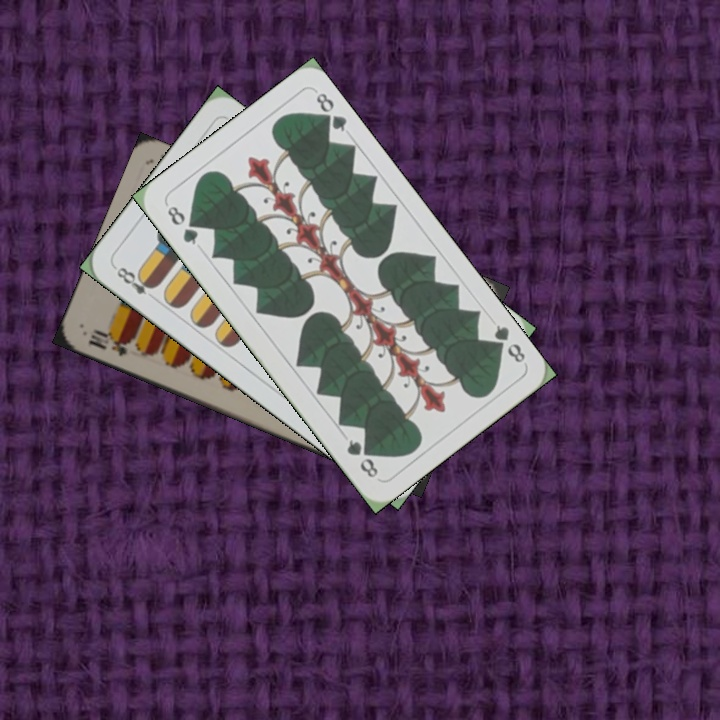E10: (84, 325, 134, 359)
E8: (110, 262, 159, 298)
G8: (486, 320, 528, 366), (163, 200, 201, 248)
